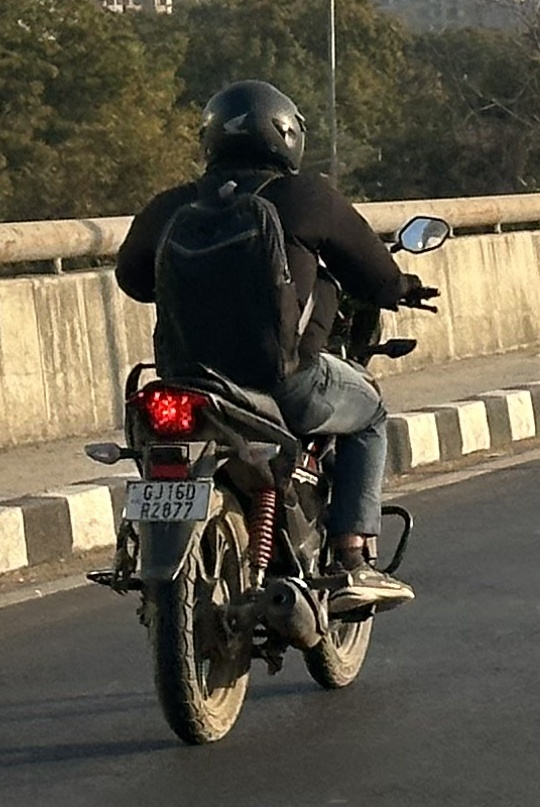BikeWithRider: (77, 72, 474, 753)
Helmet: (196, 70, 311, 194)
